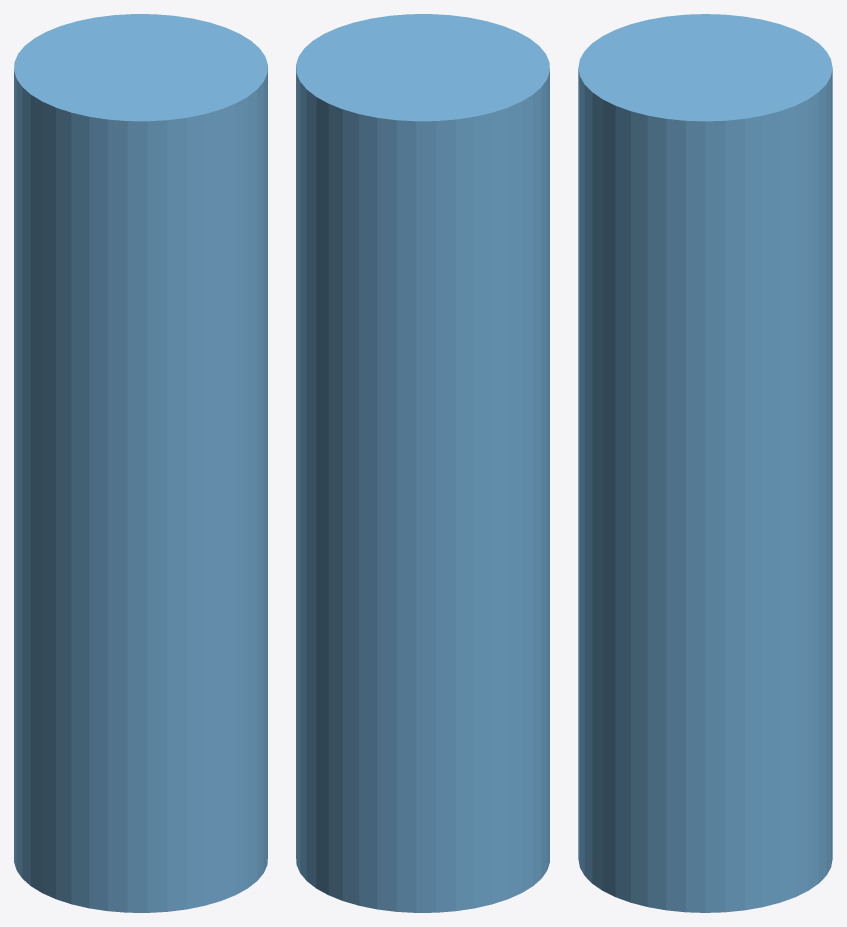
The model's file is rec_pet_bottle_0072.glb.
The picture shows the model from 3 angles, left to right: view 1: azimuth 30°, elevation 25°; view 2: azimuth 150°, elevation 25°; view 3: azimuth 270°, elevation 25°; orthographic projection.
Visible parts, largest first — view 1: z-up-to-y-up; view 2: z-up-to-y-up; view 3: z-up-to-y-up.
Part boxes in pixels (<box>): z-up-to-y-up: <box>14,14,267,912</box>; z-up-to-y-up: <box>296,14,549,912</box>; z-up-to-y-up: <box>578,14,832,912</box>.
Size of the model in its own units: 0.0624 by 0.2143 by 0.0624.
